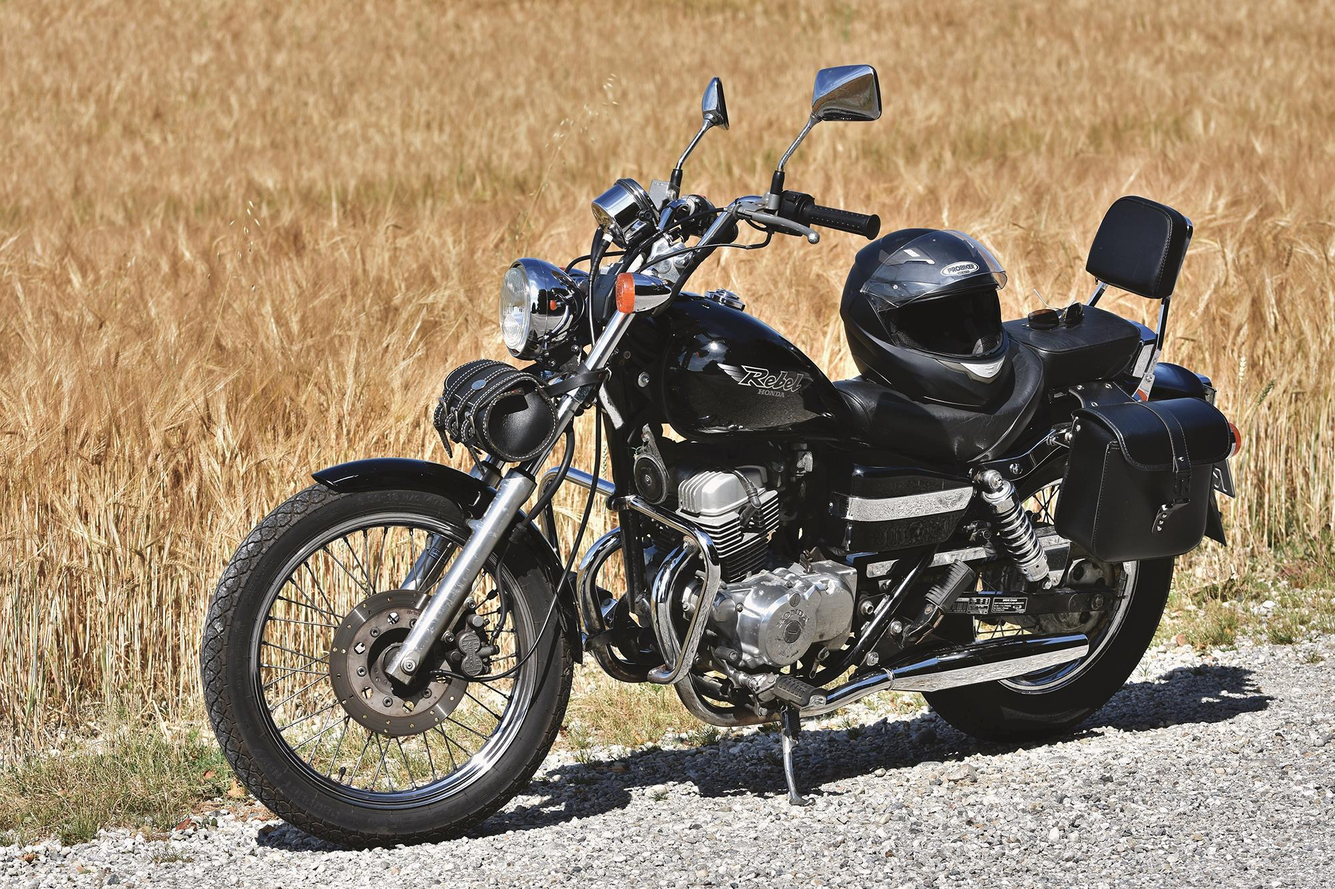helmet: (839, 227, 1012, 413)
